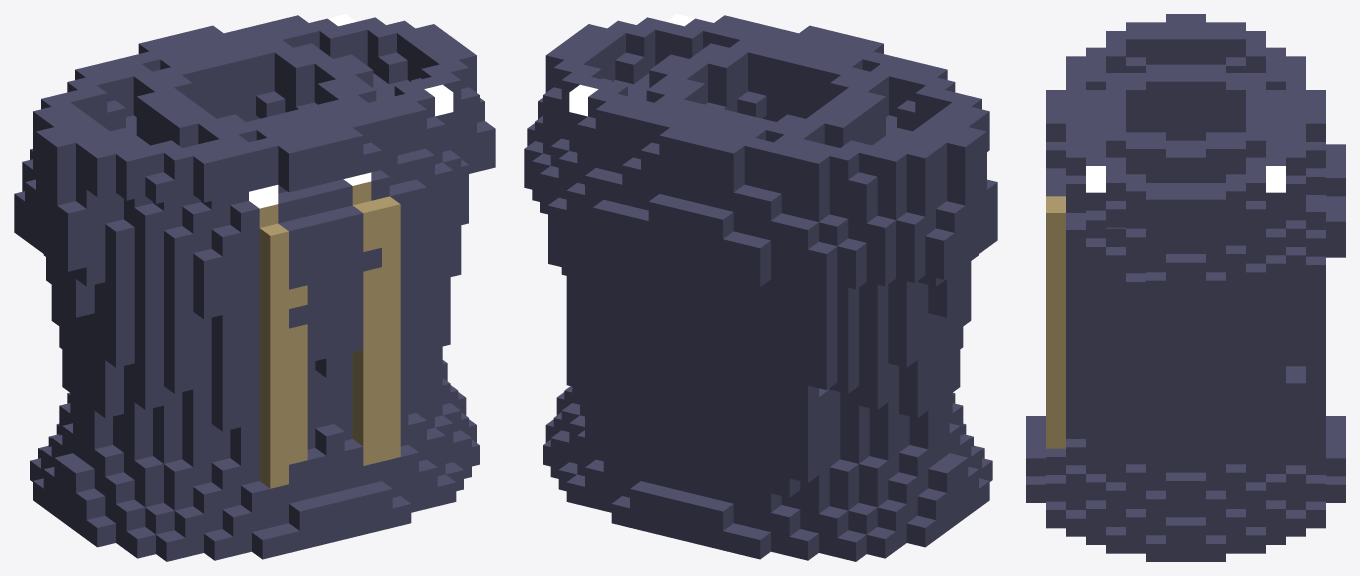
Rendered from mystic_rare_chest_lod1.glb.
3 views of the same model, side by side, from view 1: azimuth 30°, elevation 25°; view 2: azimuth 150°, elevation 25°; view 3: azimuth 270°, elevation 25° (orthographic). The views are drawn at different scales.
Visible parts, largest first — view 1: mystic_rare_chest_lod1; view 2: mystic_rare_chest_lod1; view 3: mystic_rare_chest_lod1.
Boxes of the visible parts, <box> form: mystic_rare_chest_lod1: <box>14,14,495,561</box>; mystic_rare_chest_lod1: <box>524,14,997,561</box>; mystic_rare_chest_lod1: <box>1026,14,1345,561</box>.
Bounding box in the file's own units: 0.552 × 0.48 × 0.384.
